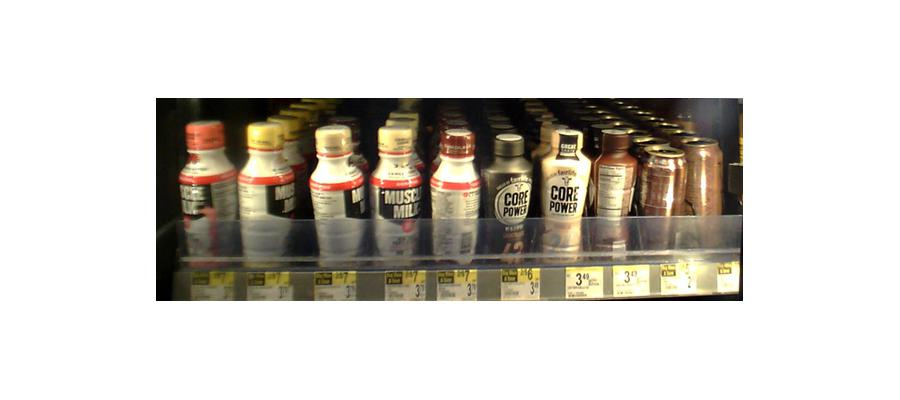bottle: (239, 120, 297, 265), (310, 127, 369, 267), (181, 120, 235, 268), (371, 121, 424, 263), (537, 128, 594, 259), (483, 132, 534, 266), (430, 129, 479, 266), (593, 120, 638, 259), (639, 136, 688, 254), (686, 130, 725, 251)
